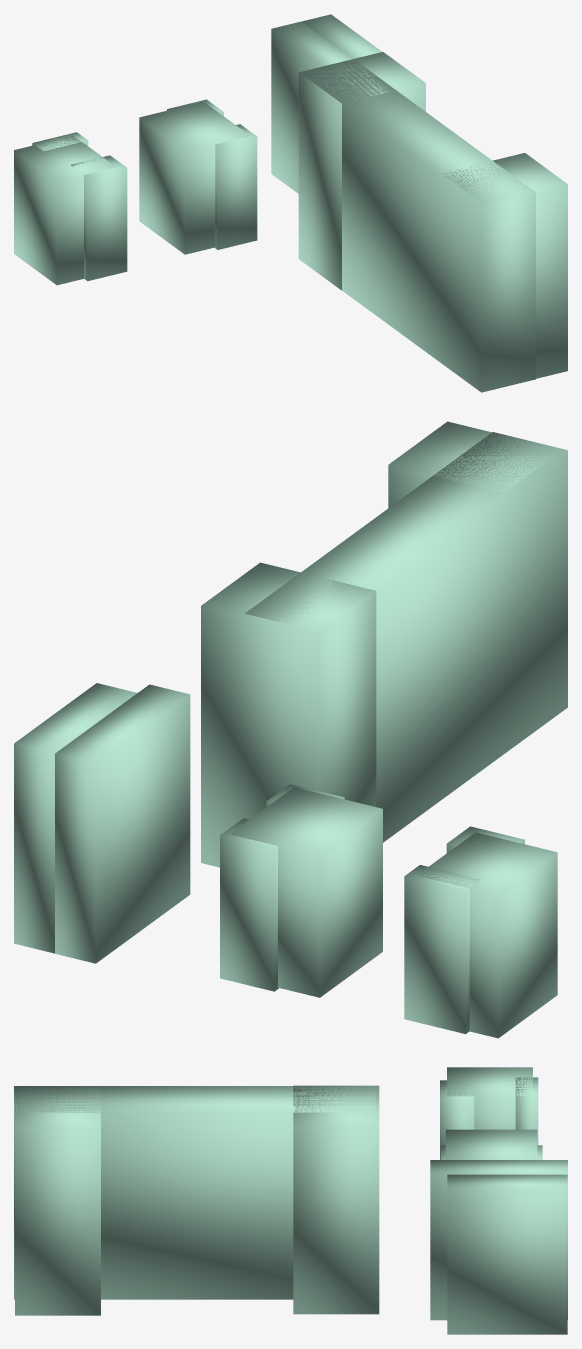
3 renders of one model, top to bottom at view 1: azimuth 30°, elevation 25°; view 2: azimuth 150°, elevation 25°; view 3: azimuth 270°, elevation 25°, orthographic. The views are drawn at different scales.
Visible parts, largest first — view 1: Box001, Box003, Box006, Box009, Box002, Box004, Box010, Box008, Box011; view 2: Box001, Box004, Box003, Box006, Box009, Box011, Box007, Box002; view 3: Box001, Box004, Box003, Box002, Box009, Box006, Box010, Box011.
Boxes of the visible parts, x1,y1,x2,y2 form: Box001: (301, 60, 535, 392); Box003: (298, 52, 425, 290); Box006: (139, 101, 249, 254); Box009: (14, 136, 115, 285); Box002: (444, 153, 567, 378); Box004: (271, 14, 381, 193); Box010: (71, 155, 127, 281); Box008: (215, 124, 257, 249); Box011: (32, 132, 88, 151); Box001: (245, 432, 567, 842); Box004: (14, 683, 190, 963); Box003: (201, 562, 376, 867); Box006: (231, 787, 382, 997); Box009: (417, 832, 557, 1038); Box011: (404, 865, 480, 1034); Box007: (220, 818, 278, 991); Box002: (388, 421, 562, 507); Box001: (14, 1086, 375, 1299); Box004: (430, 1160, 567, 1334); Box003: (293, 1085, 379, 1314); Box002: (15, 1087, 100, 1315); Box009: (447, 1067, 532, 1129); Box006: (445, 1129, 537, 1159); Box010: (440, 1080, 474, 1159); Box011: (515, 1077, 538, 1145).
Size of the model in its own units: 2655 by 1425 by 3801.
